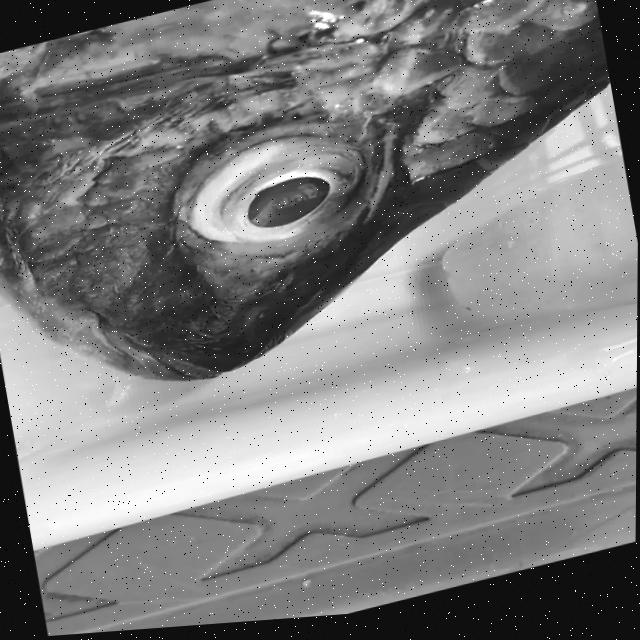Fresh: (99, 75, 467, 304)
